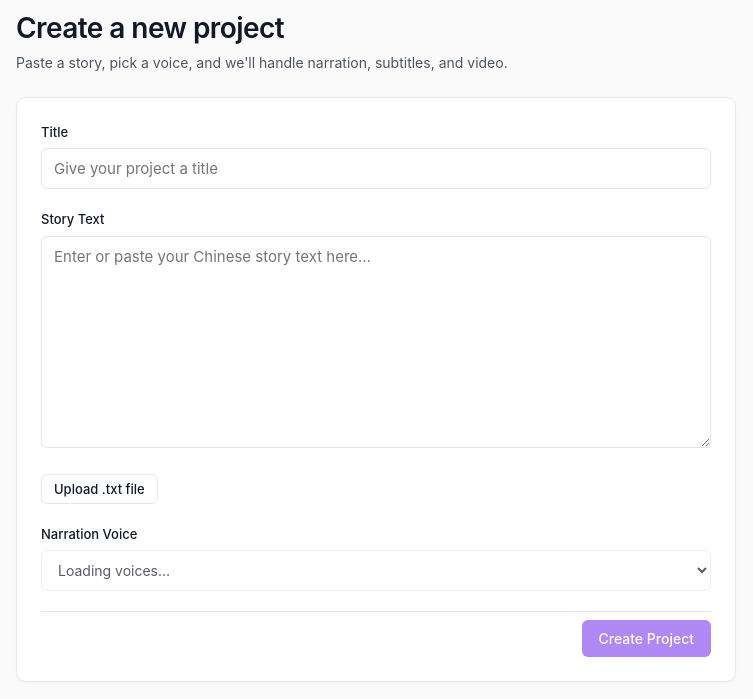
Test: CreateProjectPage › shows loading state while submitting
This screenshot has width=753, height=699.
Step 1. Type "My Story" into the field labelled "Title" → [376, 169], box [41, 148, 711, 189]
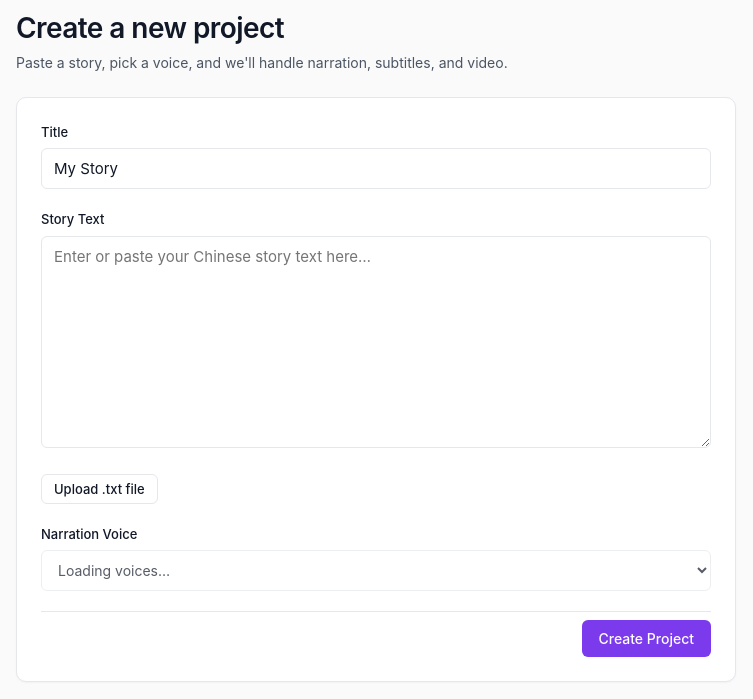
Step 2. Type "test" into the text box labelled "Story Text" → [376, 342], box [41, 236, 711, 448]
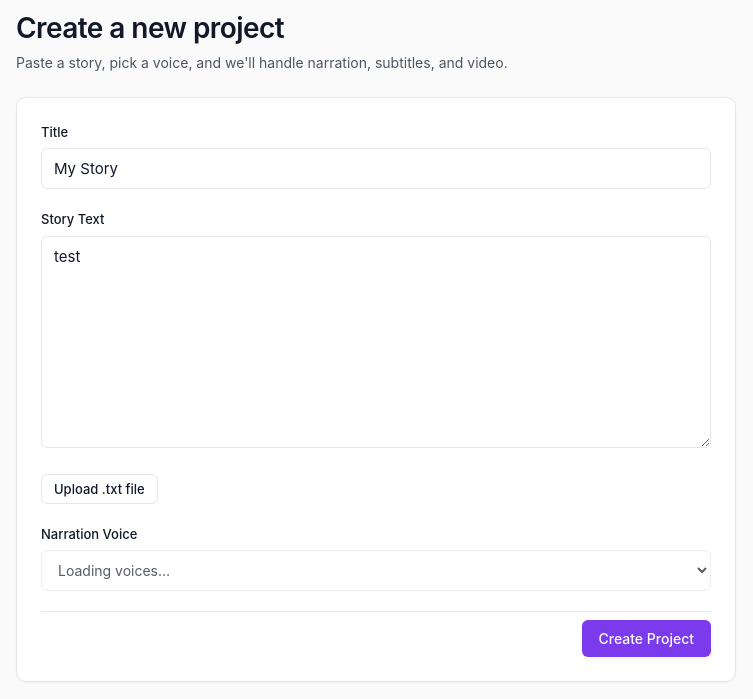
Step 3. Click the button "Create Project" → [646, 638], box [582, 620, 711, 657]
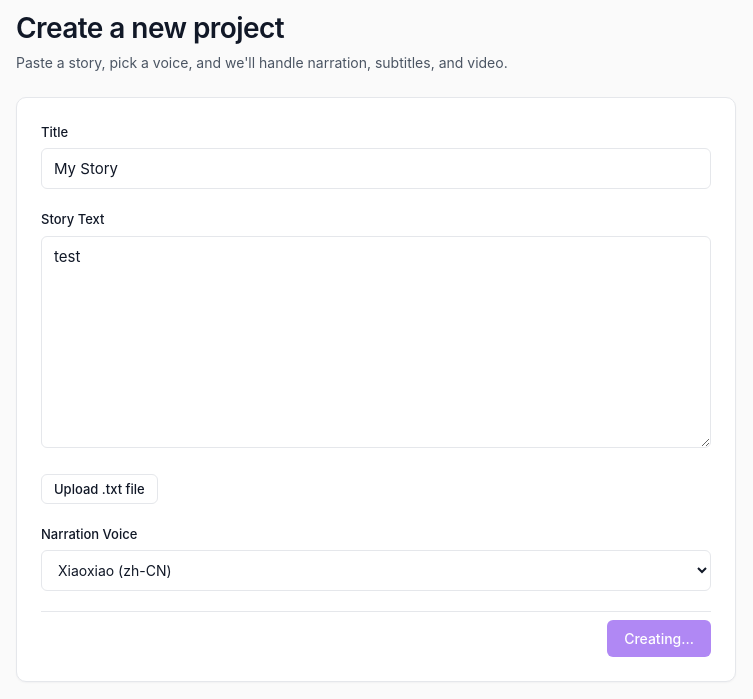
Now the button "Creating…" is shown, box [607, 620, 711, 657]
